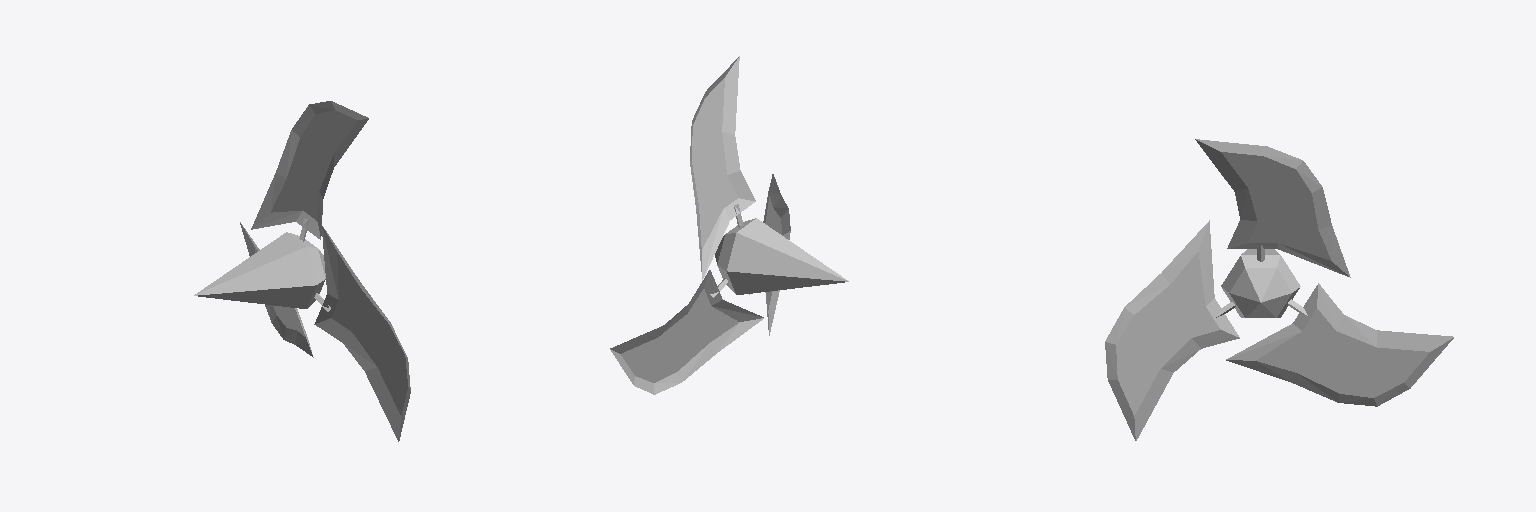
Rendered from stg400_MotFan_g6_07.obj.
3 views of the same model, side by side, from view 1: azimuth 30°, elevation 25°; view 2: azimuth 150°, elevation 25°; view 3: azimuth 270°, elevation 25° (orthographic).
Visible parts, largest first — view 1: polygon1, polygon0; view 2: polygon1, polygon0; view 3: polygon1, polygon0.
Boxes of the visible parts, <box> form: polygon1: <box>240,101,410,441</box>; polygon0: <box>194,232,325,308</box>; polygon1: <box>610,56,790,394</box>; polygon0: <box>715,218,848,294</box>; polygon1: <box>1105,139,1453,440</box>; polygon0: <box>1221,249,1300,317</box>.
Bounding box in the file's own units: 15.62 × 31.24 × 32.69.